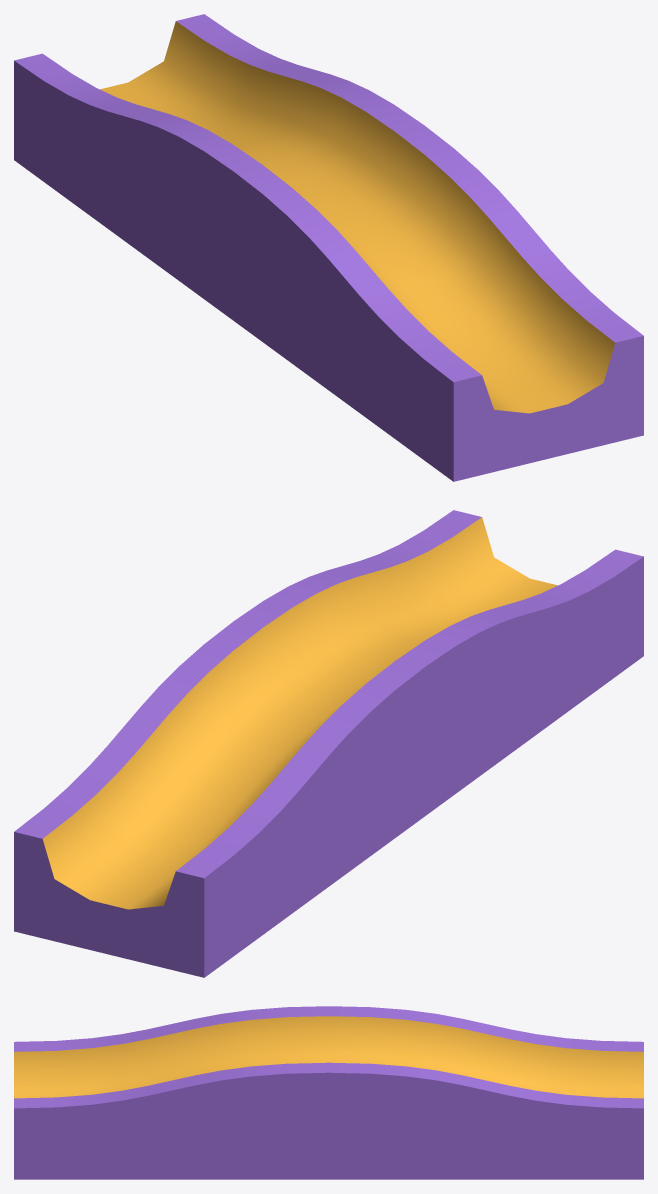
Rendered from kenney-marble-bump-solid-a.glb.
3 views of the same model, one above another, from view 1: azimuth 30°, elevation 25°; view 2: azimuth 150°, elevation 25°; view 3: azimuth 270°, elevation 25° (orthographic). The views are drawn at different scales.
Parts seen in each view (by area): view 1: bump-solid-a; view 2: bump-solid-a; view 3: bump-solid-a.
Boxes of the visible parts, x1=… form: bump-solid-a: x1=14, y1=14, x2=643, y2=481; bump-solid-a: x1=14, y1=510, x2=643, y2=977; bump-solid-a: x1=14, y1=1006, x2=643, y2=1179.
Bounding box in the file's own units: 1 × 0.75 × 4.
Materials: 1 (1 with a texture image).
